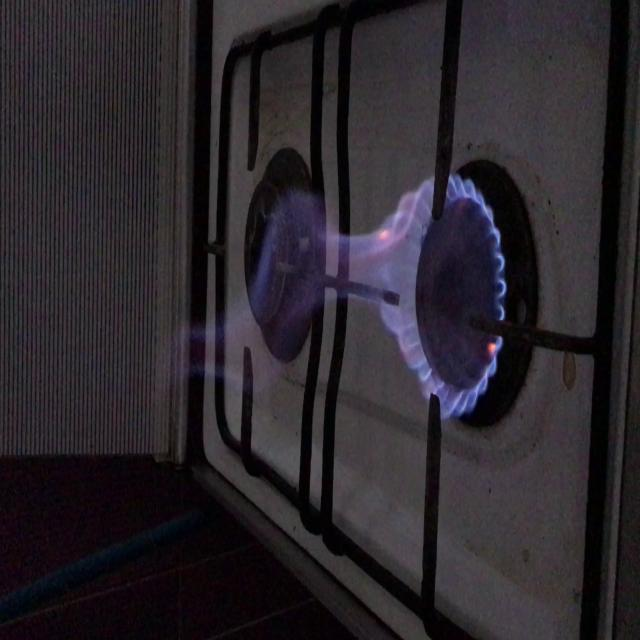fire: (263, 169, 514, 426)
